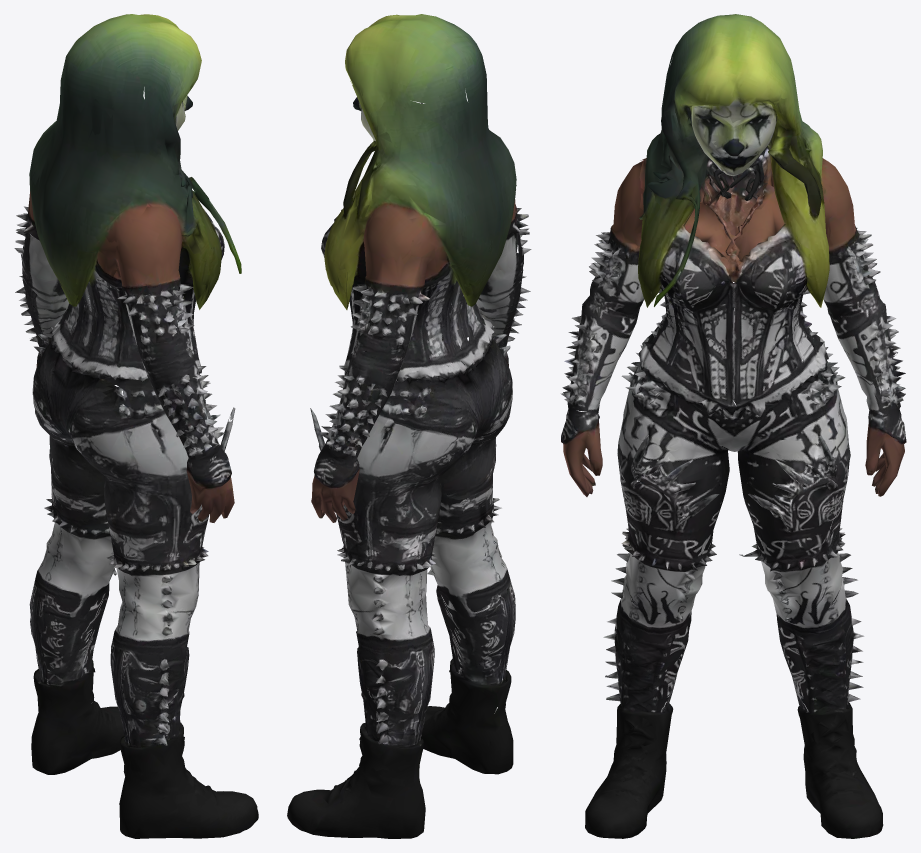
File: ONYX_rigready.glb
3 views of the same model, side by side, from view 1: azimuth 30°, elevation 25°; view 2: azimuth 150°, elevation 25°; view 3: azimuth 270°, elevation 25° (orthographic). The views are drawn at different scales.
Visible parts, largest first — view 1: chest, knL, shL, hipL, knR, elL, ftL, head, pelvis, ftR, hipR, shR (+1 smaller); view 2: chest, hipR, shR, knR, knL, head, ftR, pelvis, elR, ftL, elL, hipL (+1 smaller); view 3: chest, elR, elL, knR, knL, head, shR, shL, hipL, ftL, ftR, pelvis (+3 smaller).
Part boxes in pixels (x1,y1,x2,y2): chest: [28, 77, 234, 320]; knL: [107, 501, 208, 777]; shL: [64, 84, 221, 353]; hipL: [72, 319, 234, 570]; knR: [29, 452, 116, 729]; elL: [82, 235, 241, 455]; ftL: [113, 675, 258, 838]; head: [61, 14, 201, 137]; pelvis: [32, 282, 116, 539]; ftR: [30, 617, 123, 774]; hipR: [15, 253, 95, 523]; shR: [14, 70, 64, 277]; chest: [321, 72, 518, 344]; hipR: [311, 299, 471, 570]; shR: [323, 82, 477, 365]; knR: [337, 506, 438, 776]; knL: [427, 444, 515, 732]; head: [345, 14, 486, 140]; ftR: [287, 679, 431, 838]; pelvis: [409, 281, 512, 543]; elR: [310, 248, 397, 506]; ftL: [421, 617, 515, 774]; elL: [452, 207, 530, 350]; hipL: [454, 240, 531, 513]; chest: [638, 71, 833, 354]; elR: [740, 241, 906, 503]; elL: [560, 208, 739, 447]; knR: [743, 492, 864, 756]; knL: [594, 482, 716, 761]; head: [670, 14, 792, 159]; shR: [745, 62, 885, 343]; shL: [589, 58, 727, 330]; hipL: [561, 403, 716, 557]; ftL: [585, 675, 666, 838]; ftR: [803, 674, 883, 838]; pelvis: [668, 298, 784, 555].
Size of the model in its own units: 0.2131 by 0.9996 by 0.3961.
Materials: 1 (1 with a texture image).
